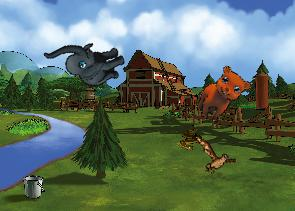bear: (192, 61, 254, 131)
eagle: (186, 133, 240, 179)
elephant: (43, 21, 130, 102)
